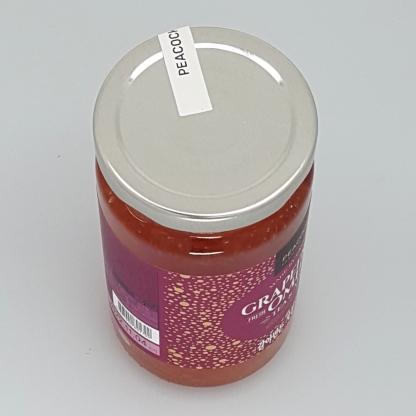---------------400G: (92, 26, 319, 388)
